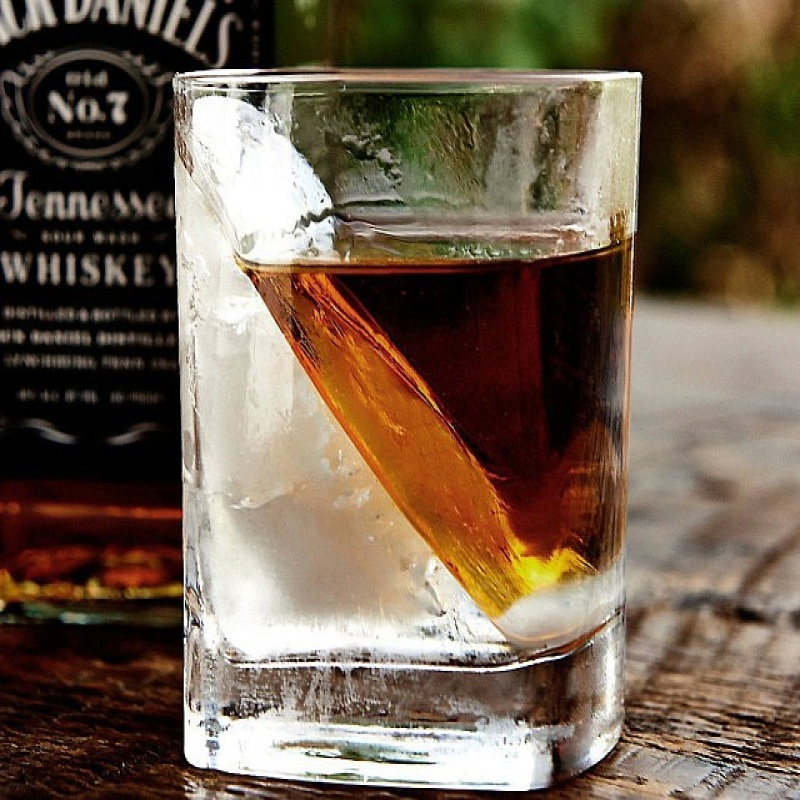whiskey: (176, 63, 654, 769)
